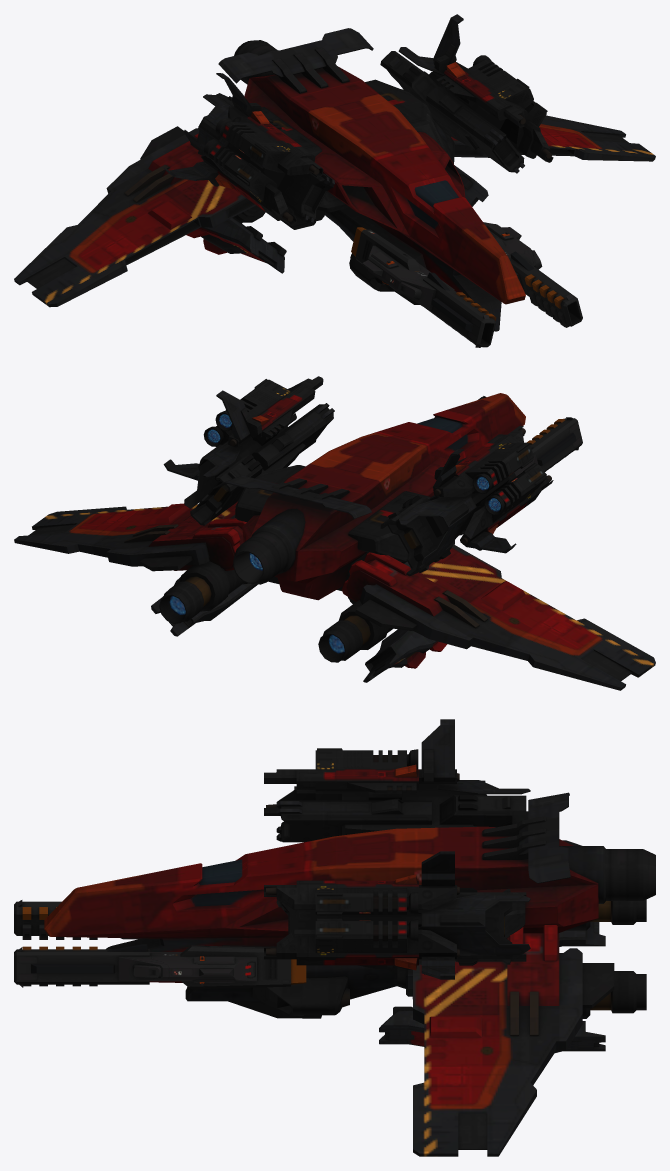
Rendered from tellrx5.glb.
3 renders of one model, top to bottom at view 1: azimuth 30°, elevation 25°; view 2: azimuth 150°, elevation 25°; view 3: azimuth 270°, elevation 25°, orthographic. The views are drawn at different scales.
Parts seen in each view (by area): view 1: GXX_Cockpit-D001, GXX_L-Wing-C002, GXX_L-Prop-A003, GXX_L-Prop-A004, GXX_L-Laser-Ion002, GXX_L-Wing-C001, GXX_L-Laser-Ion001, GXX_L-Prop-E004, GXX_L-Prop-E003; view 2: GXX_Cockpit-D001, GXX_L-Wing-C002, GXX_L-Wing-C001, GXX_L-Prop-A004, GXX_L-Prop-A003, GXX_L-Prop-E004, GXX_L-Laser-Ion002, GXX_L-Prop-E003; view 3: GXX_Cockpit-D001, GXX_L-Wing-C001, GXX_L-Prop-A003, GXX_L-Prop-A004, GXX_L-Laser-Ion001, GXX_L-Prop-E003, GXX_L-Laser-Ion002, GXX_L-Wing-C002, GXX_L-Prop-E004.
Boxes of the visible parts, left/top/right/bottom form: GXX_Cockpit-D001: left=218, top=28, right=525, bottom=331; GXX_L-Wing-C002: left=14, top=126, right=265, bottom=307; GXX_L-Prop-A003: left=380, top=14, right=553, bottom=173; GXX_L-Prop-A004: left=164, top=73, right=334, bottom=225; GXX_L-Laser-Ion002: left=351, top=227, right=496, bottom=347; GXX_L-Wing-C001: left=401, top=89, right=655, bottom=161; GXX_L-Laser-Ion001: left=483, top=222, right=582, bottom=327; GXX_L-Prop-E004: left=186, top=217, right=286, bottom=273; GXX_L-Prop-E003: left=454, top=165, right=488, bottom=206; GXX_Cockpit-D001: left=213, top=393, right=525, bottom=603; GXX_L-Wing-C002: left=318, top=544, right=655, bottom=690; GXX_L-Wing-C001: left=14, top=501, right=247, bottom=623; GXX_L-Prop-A004: left=380, top=426, right=553, bottom=576; GXX_L-Prop-A003: left=163, top=376, right=334, bottom=525; GXX_L-Prop-E004: left=363, top=629, right=447, bottom=682; GXX_L-Laser-Ion002: left=459, top=417, right=582, bottom=535; GXX_L-Prop-E003: left=151, top=577, right=257, bottom=636; GXX_Cockpit-D001: left=44, top=792, right=655, bottom=1018; GXX_L-Wing-C001: left=413, top=925, right=646, bottom=1156; GXX_L-Prop-A003: left=264, top=851, right=530, bottom=979; GXX_L-Prop-A004: left=264, top=719, right=530, bottom=842; GXX_L-Laser-Ion001: left=14, top=944, right=306, bottom=989; GXX_L-Prop-E003: left=379, top=1006, right=605, bottom=1052; GXX_L-Laser-Ion002: left=14, top=900, right=141, bottom=939; GXX_L-Wing-C002: left=562, top=840, right=646, bottom=930; GXX_L-Prop-E004: left=559, top=922, right=605, bottom=946.
Bounding box in the file's own units: 14.24 × 4.57 × 11.47.
Materials: 2 (2 with a texture image).
